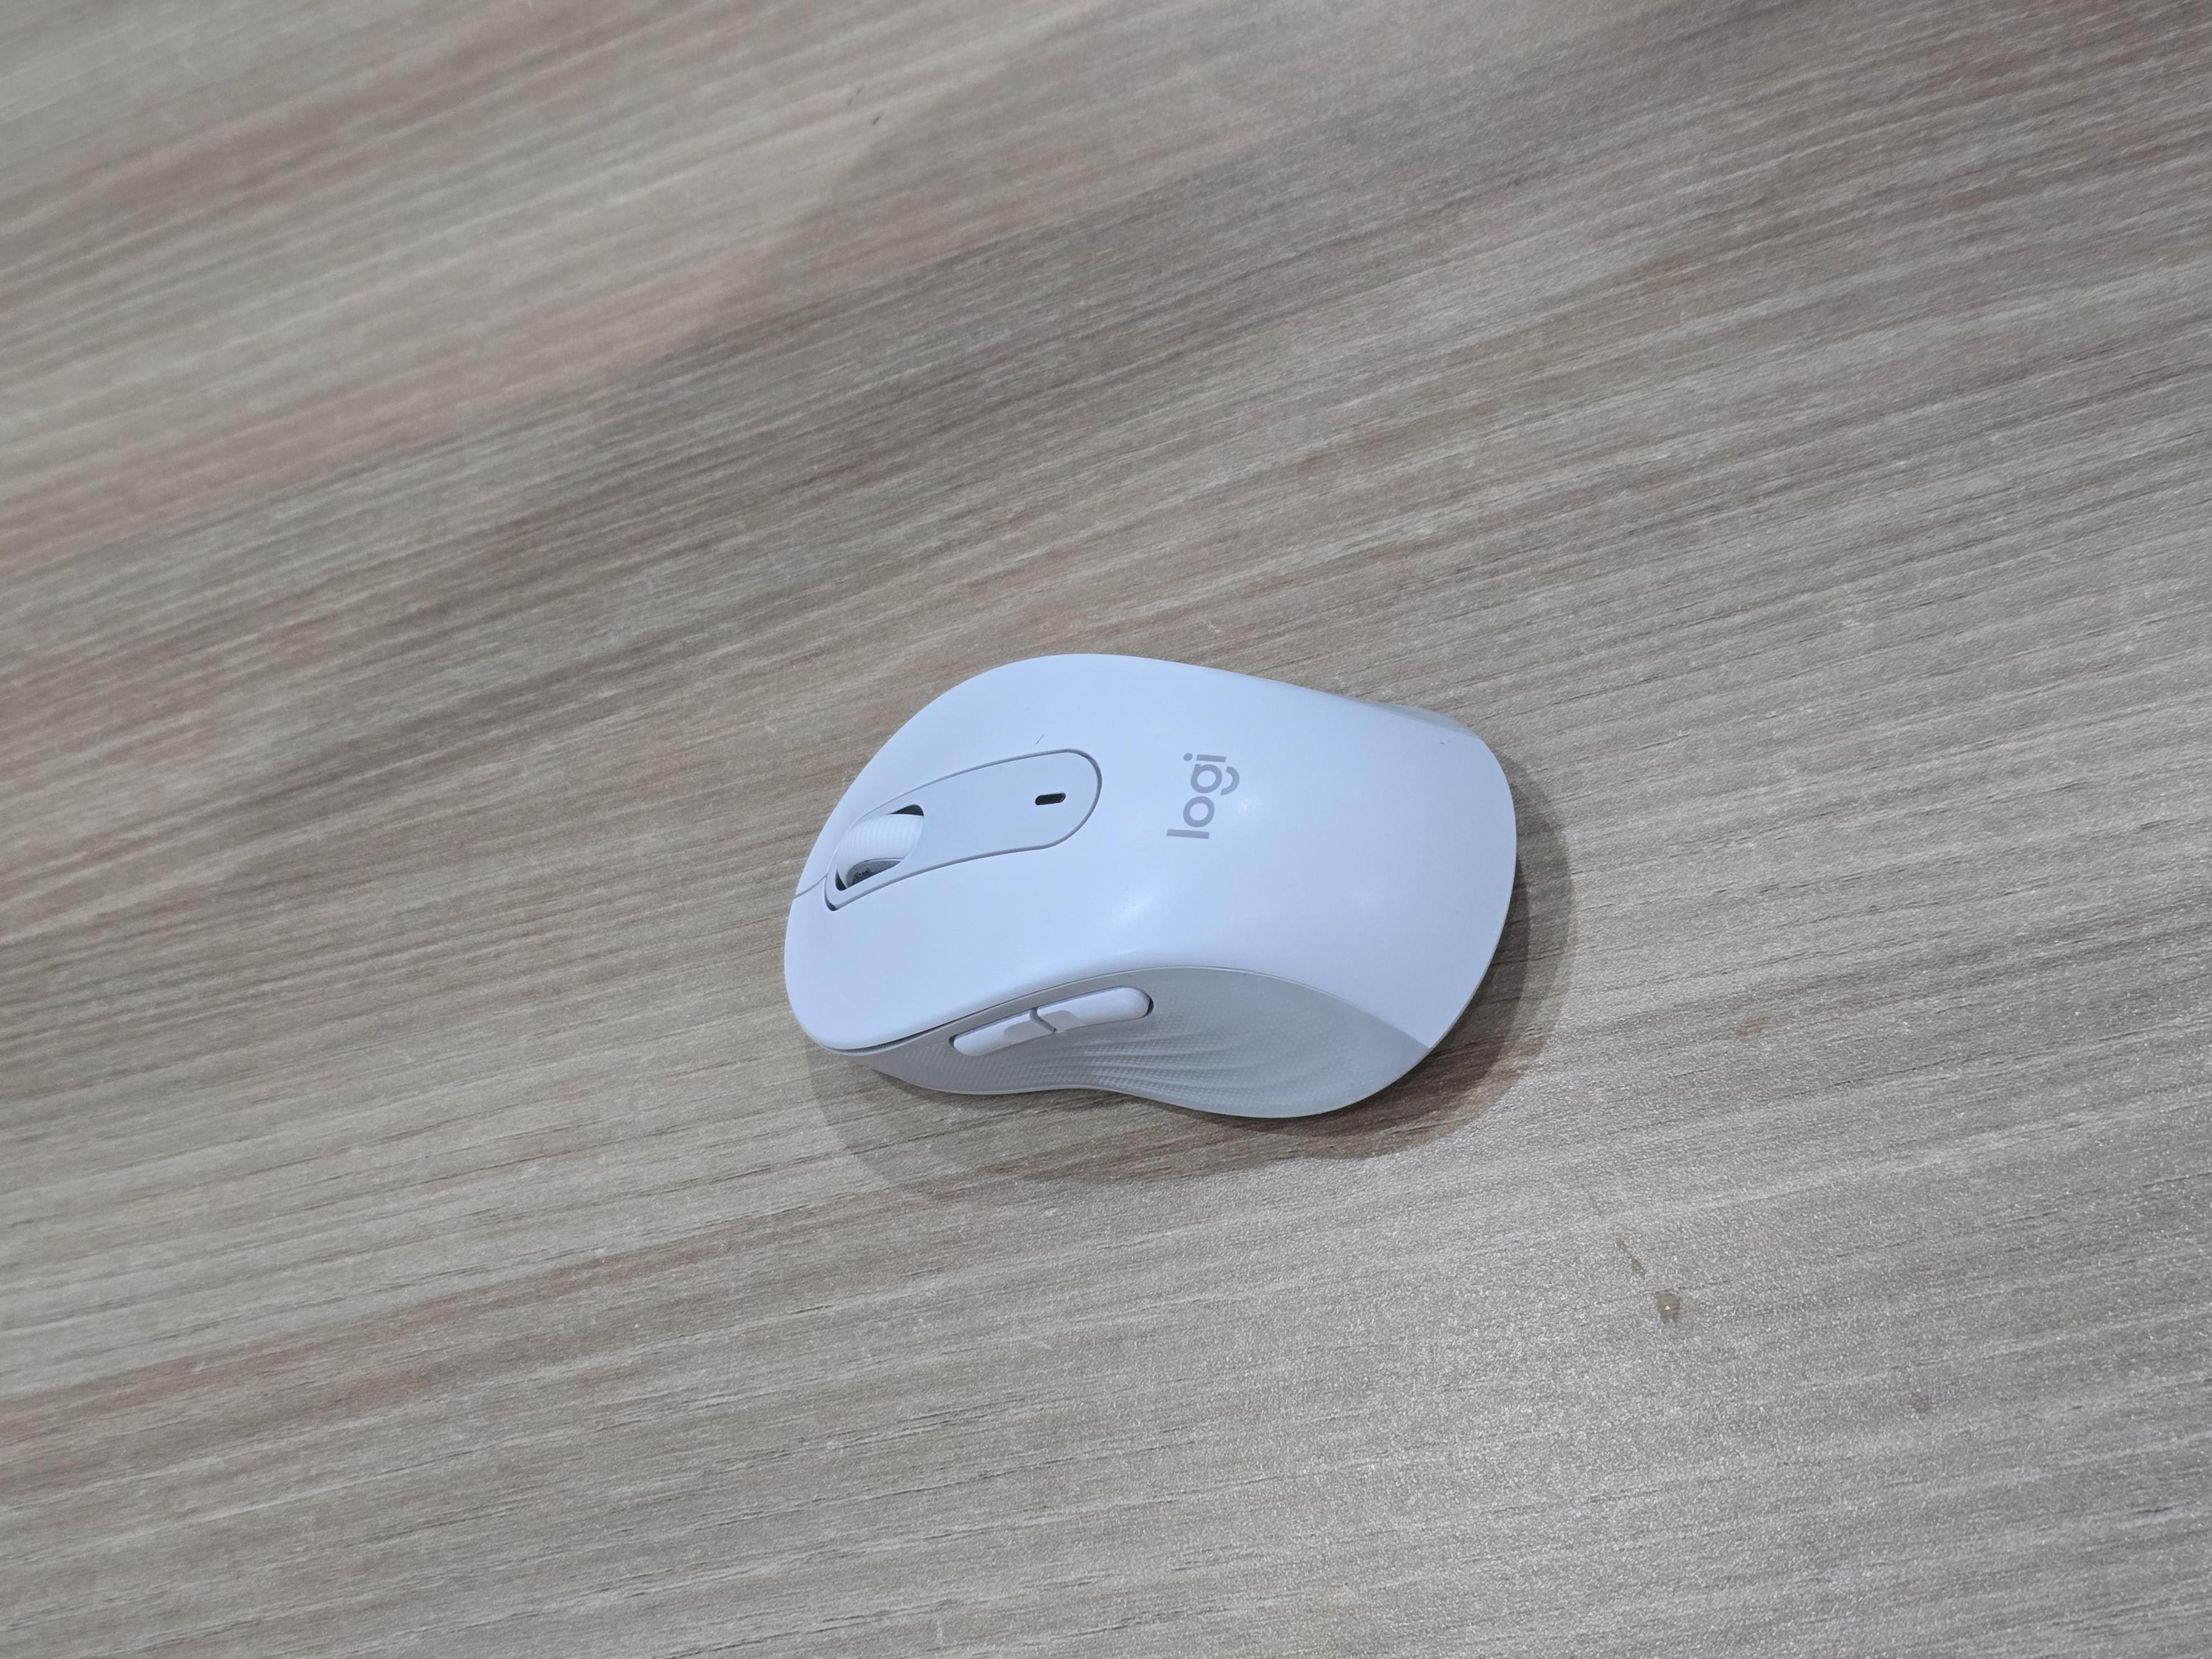mouse: (780, 648, 1519, 1122)
